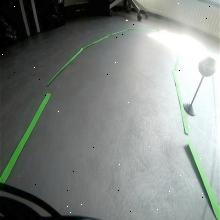left: (198, 56, 216, 77)
